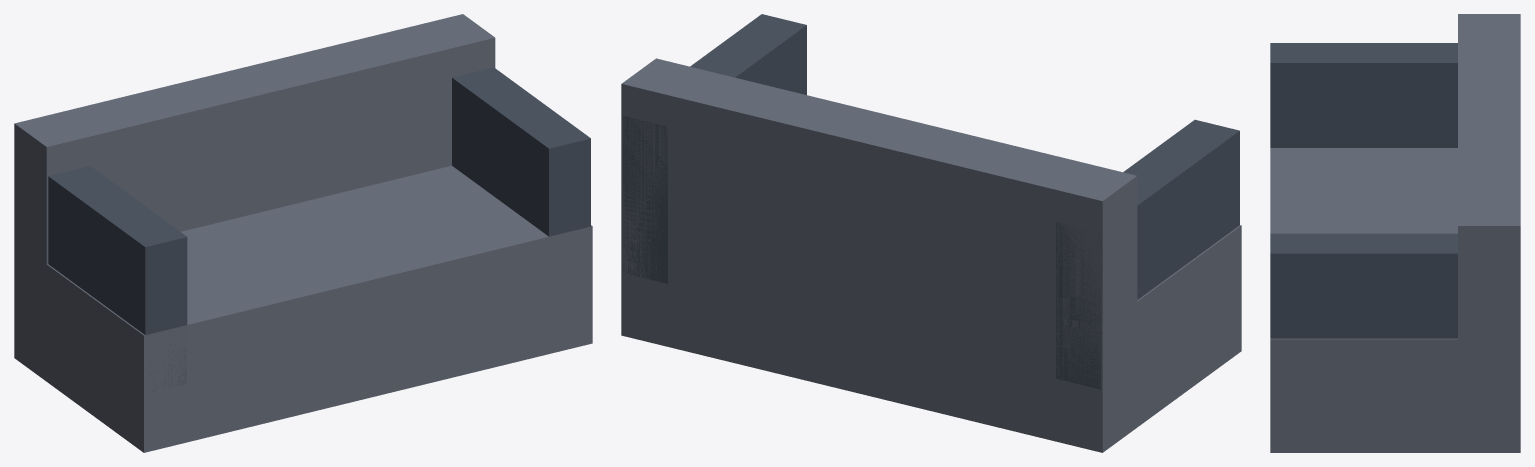
File: object-sofa-v1.glb
3 renders of one model, left to right at view 1: azimuth 30°, elevation 25°; view 2: azimuth 150°, elevation 25°; view 3: azimuth 270°, elevation 25°, orthographic. The views are drawn at different scales.
Size of the model in its own units: 1.6 by 0.8 by 0.8.
